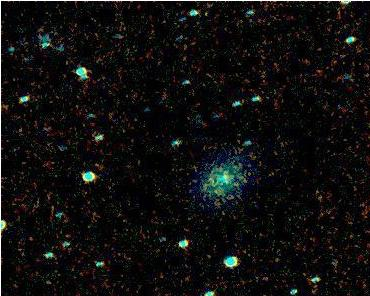star: (214, 160, 244, 190)
